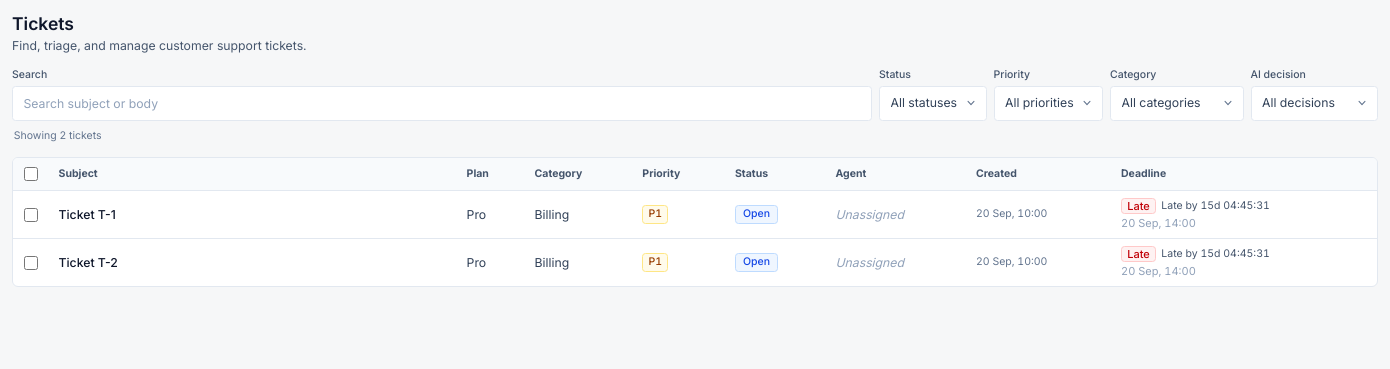
Test case: TicketsWorkspace Bulk Actions UI › bulk action bar appears after selecting rows and disappears on clear
Expected: the text "1 selected" is not shown
Select T-1 checkbox
Click the checkbox named "Select T-1". click: {"x": 30, "y": 215}
box: 24,208 -> 38,222
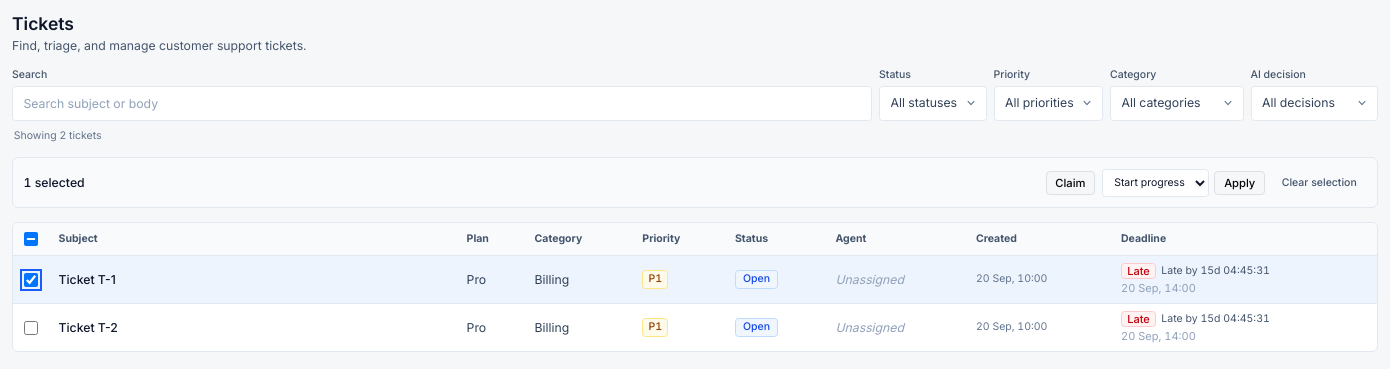
Expected: the text "1 selected" is shown, 24,174 -> 85,192
Clear selection
Click the button "Clear selection". click: {"x": 1319, "y": 183}
box: 1272,170 -> 1366,195
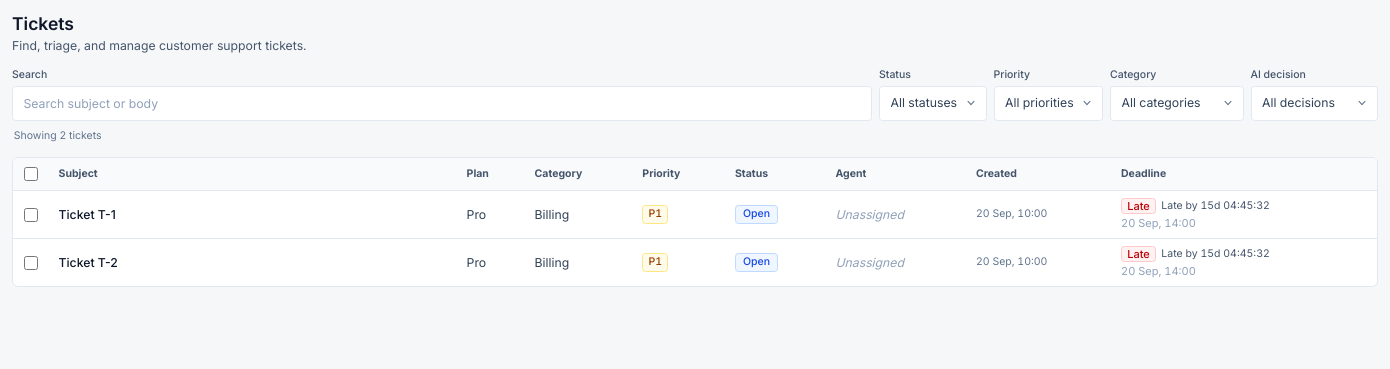
Expected: the text "1 selected" is gone
